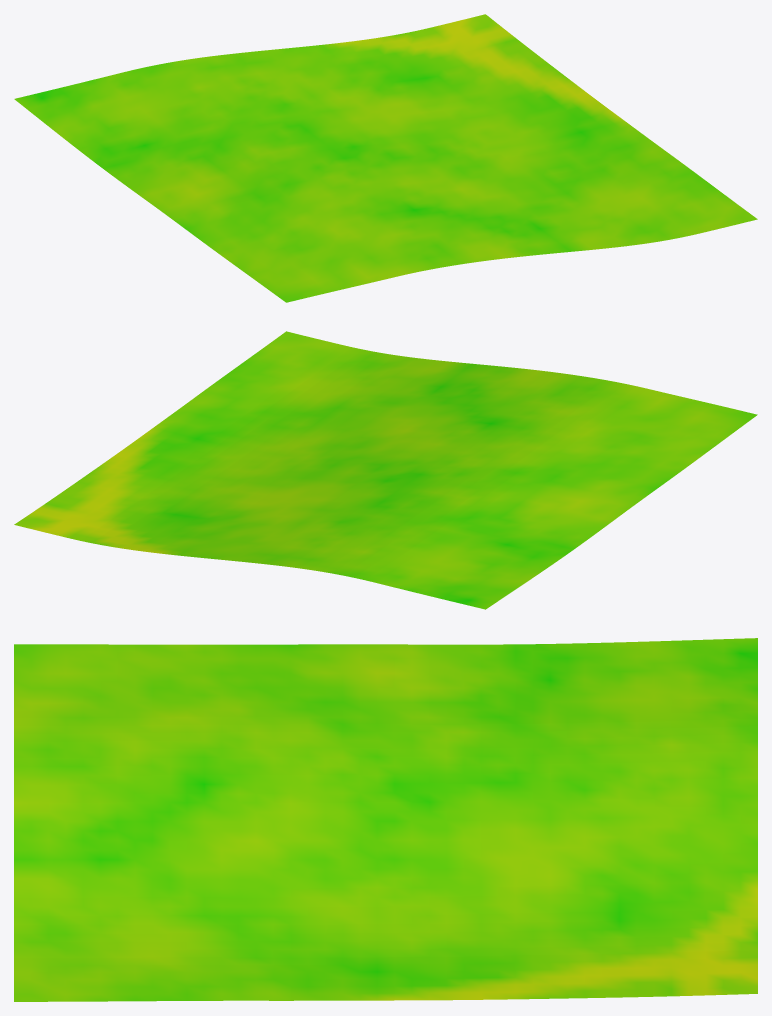
The model's file is terrain_0_3.glb.
The picture shows the model from 3 angles, top to bottom: view 1: azimuth 30°, elevation 25°; view 2: azimuth 150°, elevation 25°; view 3: azimuth 270°, elevation 25°; orthographic projection. The views are drawn at different scales.
Visible parts, largest first — view 1: terrain_0_3; view 2: terrain_0_3; view 3: terrain_0_3.
Boxes of the visible parts, x1,y1,x2,y2 form: terrain_0_3: (14,14,757,302); terrain_0_3: (14,331,757,609); terrain_0_3: (14,638,757,1001).
Size of the model in its own units: 85 by 6.23 by 85.
